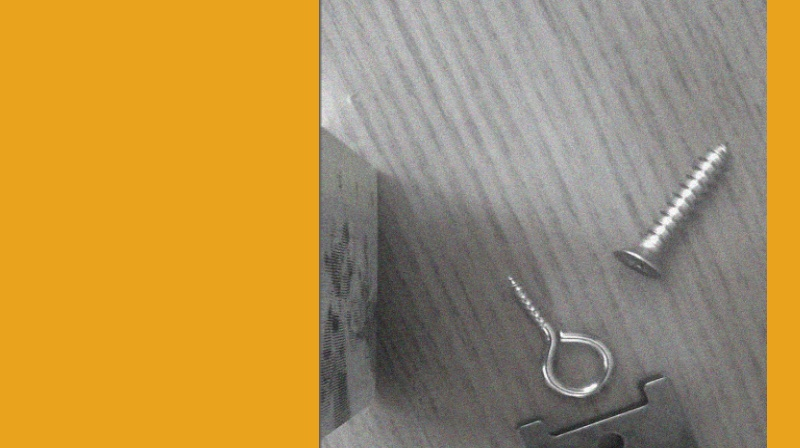O001: (502, 271, 616, 398)
O002: (512, 371, 704, 447)
S001: (609, 133, 733, 279)
